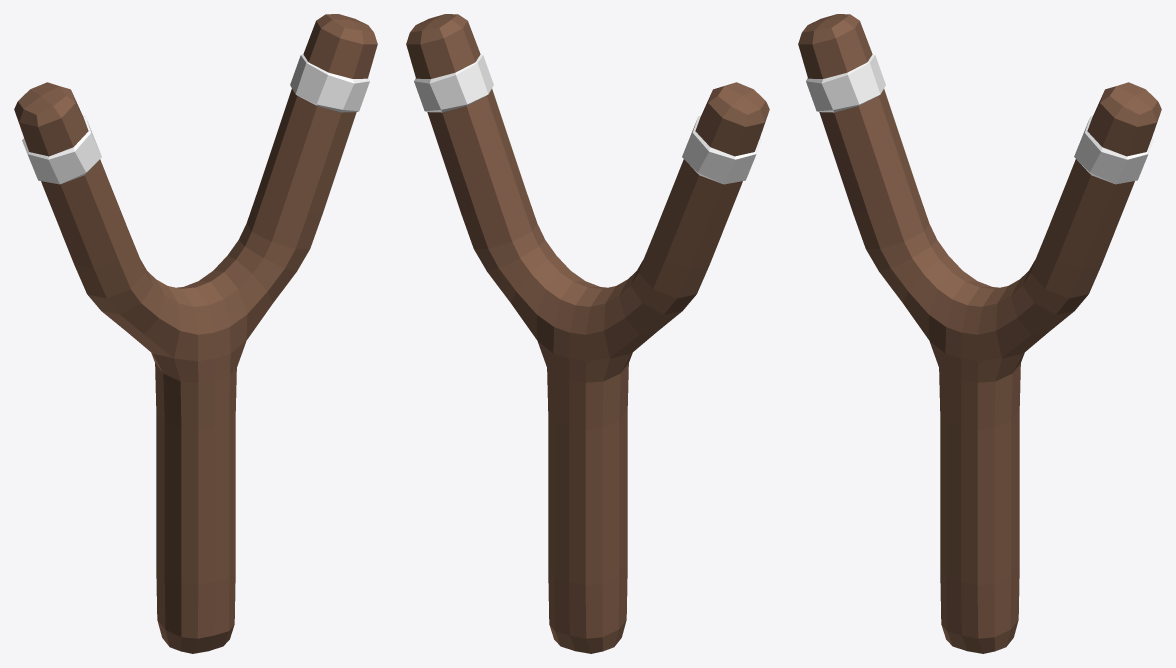
Rendered from slingshot.fbx.
3 views of the same model, side by side, from view 1: azimuth 30°, elevation 25°; view 2: azimuth 150°, elevation 25°; view 3: azimuth 330°, elevation 25° (orthographic).
Visible parts, largest first — view 1: slingshot; view 2: slingshot; view 3: slingshot.
Part boxes in pixels (x1,y1,x2,y2): slingshot: (14, 14, 377, 653); slingshot: (406, 14, 769, 653); slingshot: (798, 14, 1161, 653).
Bounding box in the file's own units: 0.205 × 0.3289 × 0.0378.
